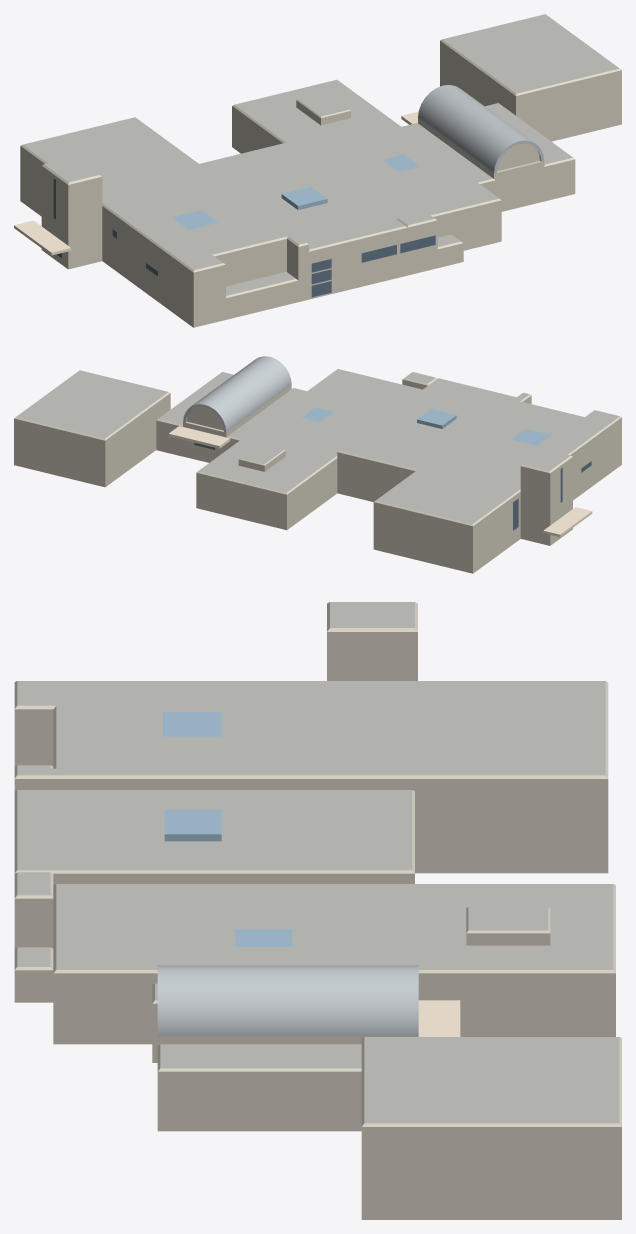
File: dal-dallas-museum-of-art.glb
3 renders of one model, top to bottom at view 1: azimuth 30°, elevation 25°; view 2: azimuth 150°, elevation 25°; view 3: azimuth 270°, elevation 25°, orthographic. The views are drawn at different scales.
Visible parts, largest first — view 1: Dallas Museum of Art; view 2: Dallas Museum of Art; view 3: Dallas Museum of Art.
Part boxes in pixels (x1,y1,x2,y2): Dallas Museum of Art: (14,14,621,327); Dallas Museum of Art: (14,356,621,573); Dallas Museum of Art: (14,602,621,1219).
Size of the model in its own units: 193 by 27.2 by 102.
